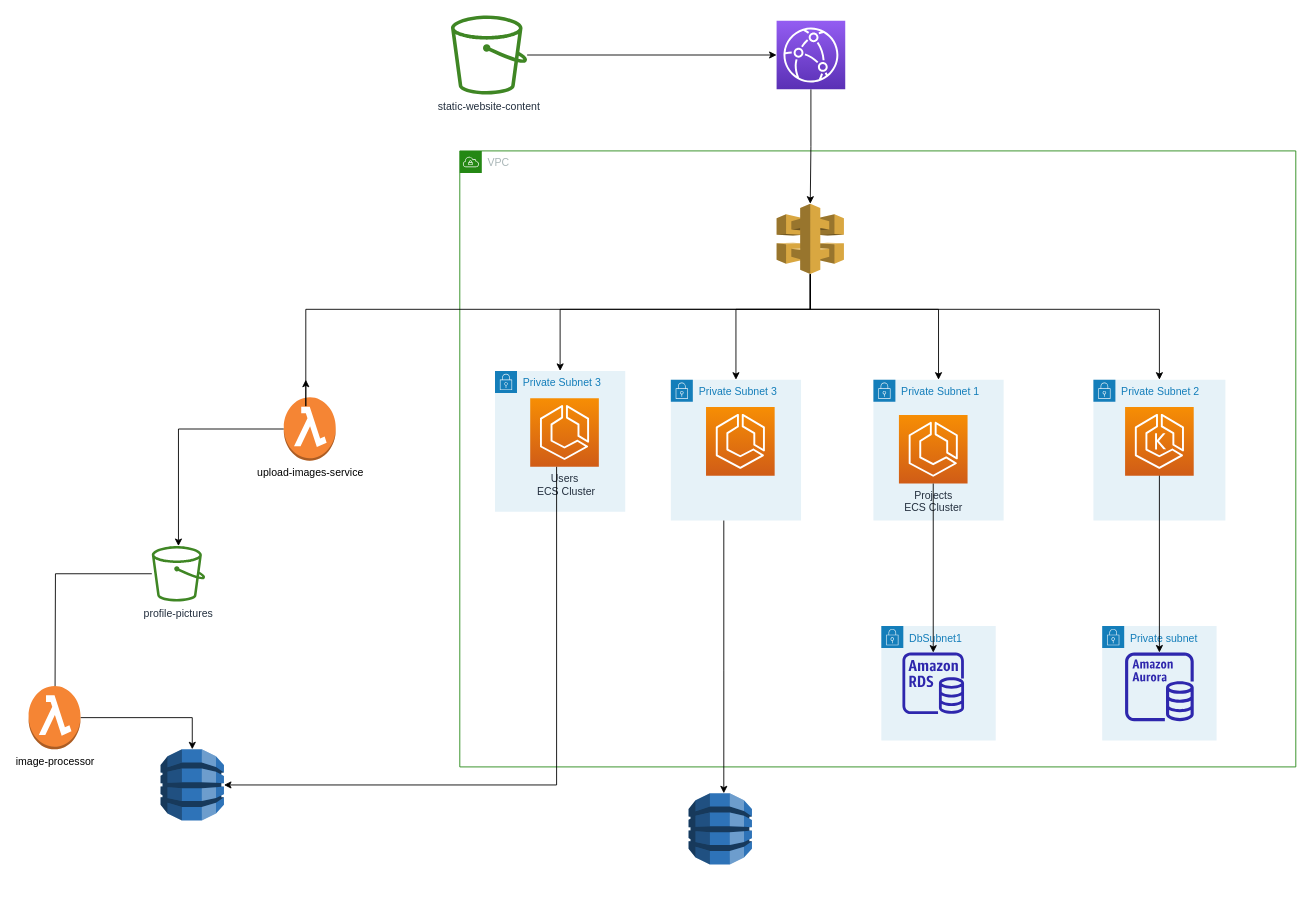
This 1311x898 diagram has some shape labels left out. The shapes that lost their labels are listed below. From the top down, each one's centre as x and y in pixels, then its label:
(x=740, y=441): Settings ECS Cluster
(x=1159, y=441): Messages EKS Cluster
(x=933, y=683): projects db
(x=1159, y=686): messages db
(x=192, y=784): user-meta-data
(x=720, y=828): settings-db
